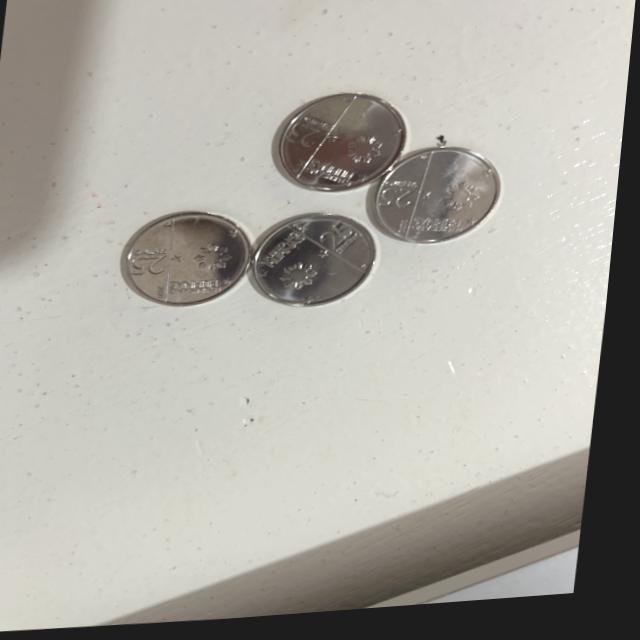25Cent_New_Front: (131, 241, 181, 284), (324, 221, 376, 261), (286, 113, 329, 155), (383, 179, 423, 219)
